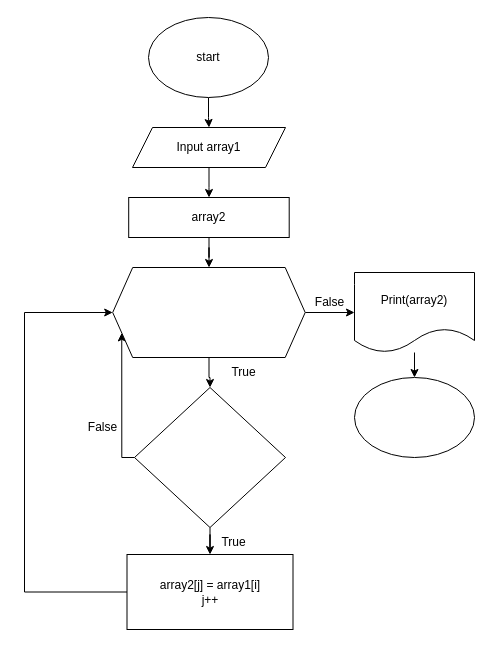
This 492x647 diagram has some shape labels left out. Each missing label, with the centre of its shape:
"array1[i].Length <= 3" goes at pixel 210 457.
"Finish" goes at pixel 414 417.
"i = 0, j = 0 i < array1.Length i++" goes at pixel 208 312.
